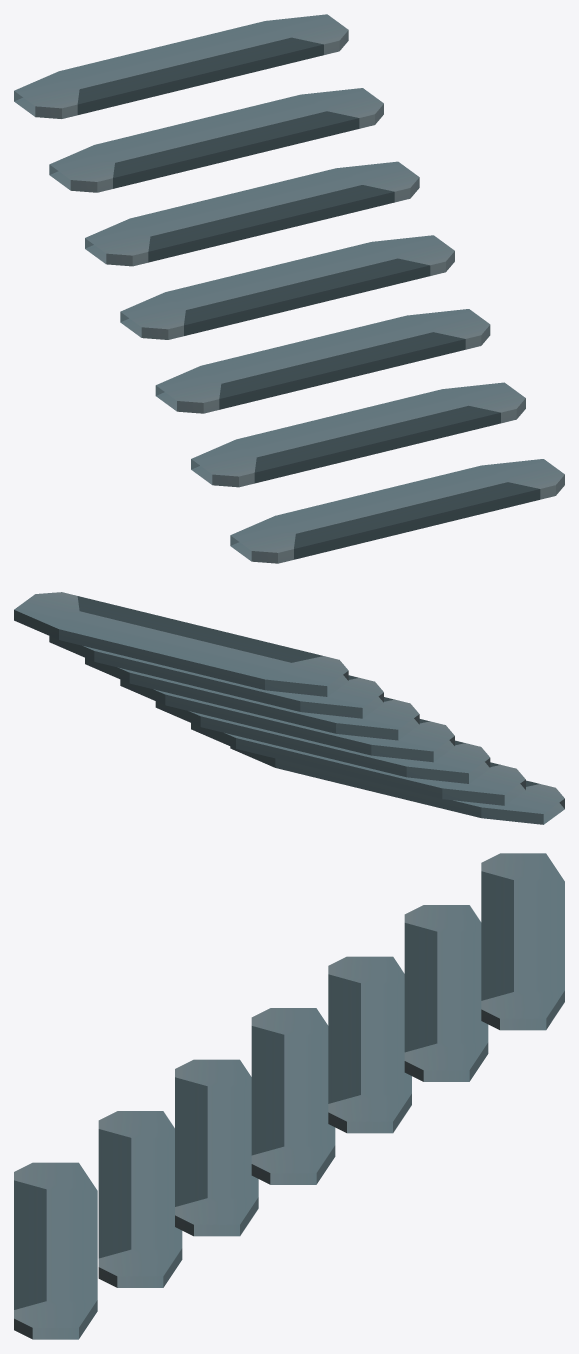
File: Stair_type_C_001.fbx
3 views of the same model, one above another, from view 1: azimuth 30°, elevation 25°; view 2: azimuth 150°, elevation 25°; view 3: azimuth 270°, elevation 25° (orthographic). The views are drawn at different scales.
Parts seen in each view (by area): view 1: Stair_type_C_001; view 2: Stair_type_C_001; view 3: Stair_type_C_001.
Boxes of the visible parts, x1,y1,x2,y2 form: Stair_type_C_001: (14,14,564,563); Stair_type_C_001: (14,592,564,824); Stair_type_C_001: (14,853,564,1339).
Bounding box in the file's own units: 152 × 214 × 138.
